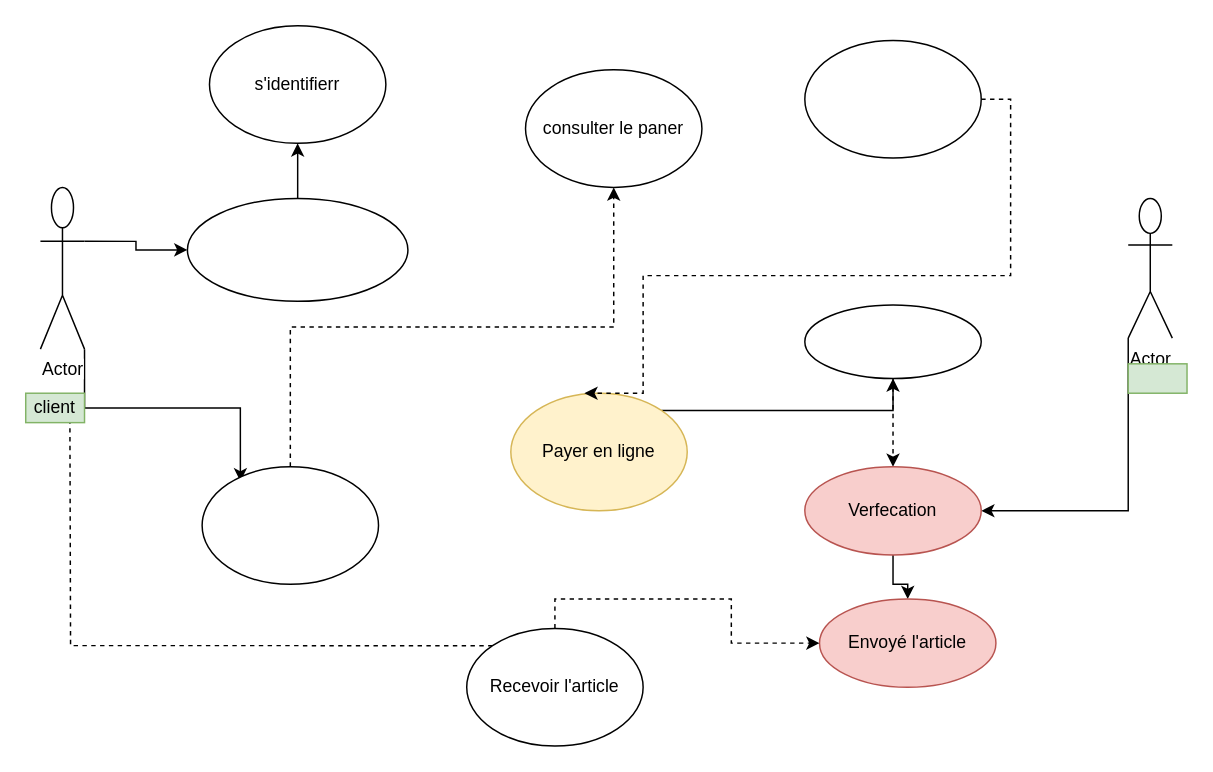
Some shapes in this 1213 by 772 pixel diagram are drawn without their labels. Here are the shapes that lost their labels. From the top down, the centre of each, then its label:
At pixel 892 98: "Paylap".
At pixel 297 249: "acceder au site Darty".
At pixel 892 341: "Carte bancaire".
At pixel 1157 377: "Darty".
At pixel 290 524: "Choisir un article".
